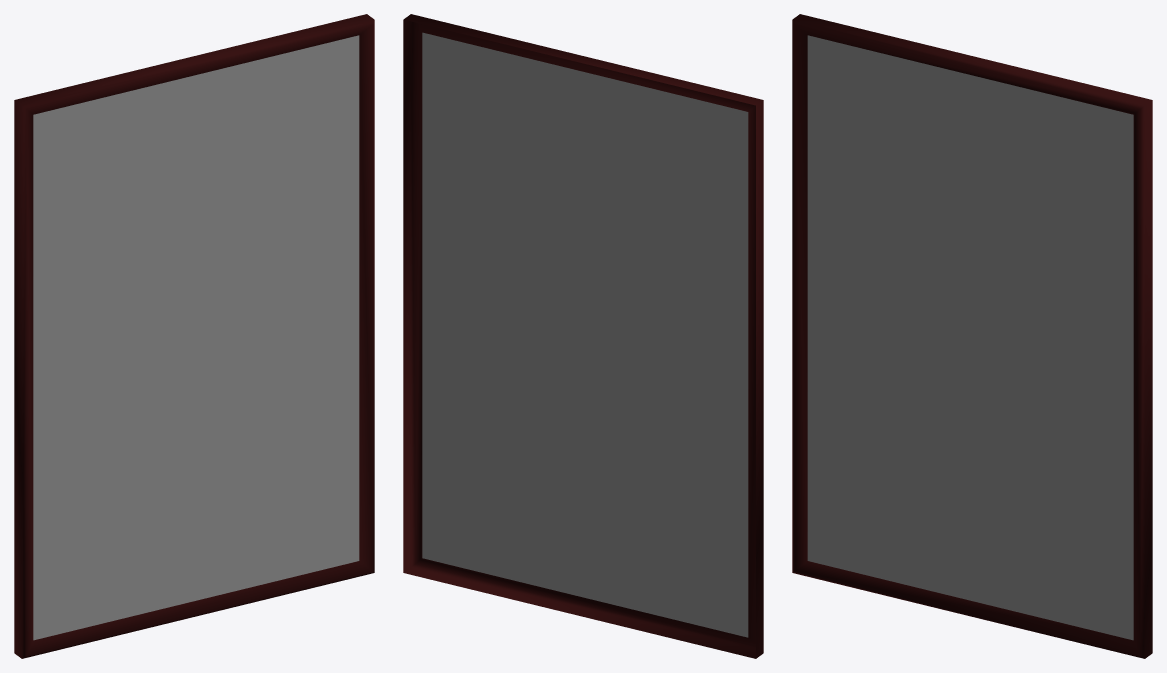
The model's file is Mirror.FBX.
3 renders of one model, left to right at view 1: azimuth 30°, elevation 25°; view 2: azimuth 150°, elevation 25°; view 3: azimuth 330°, elevation 25°, orthographic.
Visible parts, largest first — view 1: Mirror; view 2: Mirror; view 3: Mirror.
Boxes of the visible parts, x1,y1,x2,y2 form: Mirror: (14, 14, 374, 658); Mirror: (403, 14, 763, 658); Mirror: (792, 14, 1152, 658).
Bounding box in the file's own units: 40 × 60 × 1.81.
